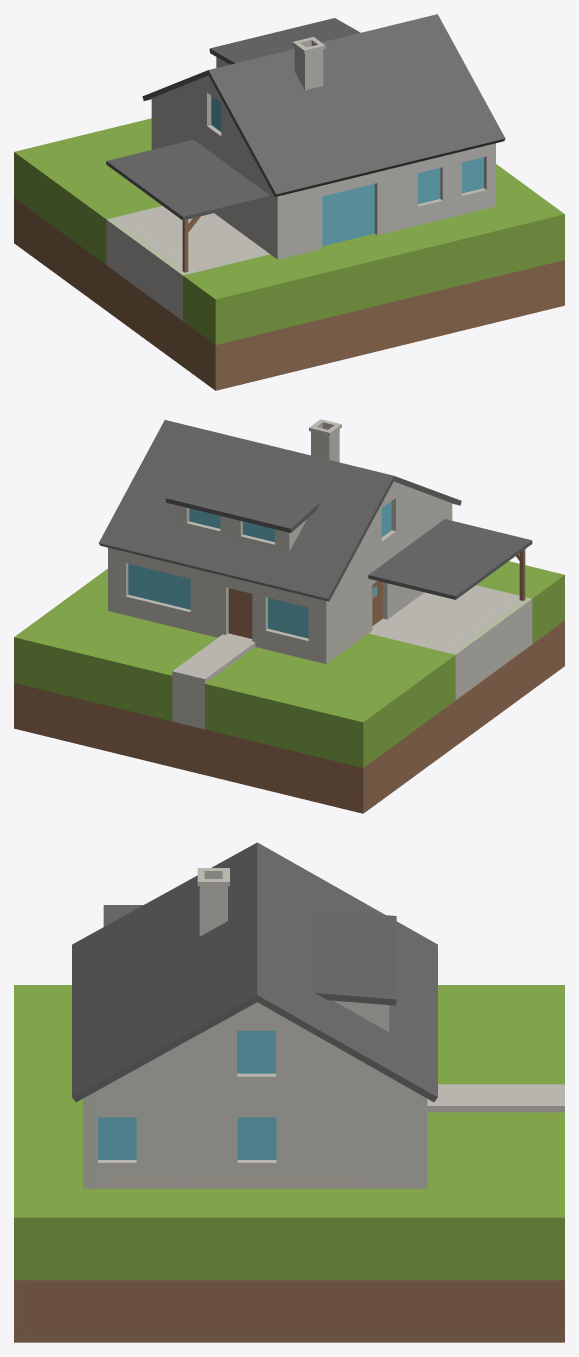
The model's file is building-house6.obj.
3 renders of one model, top to bottom at view 1: azimuth 30°, elevation 25°; view 2: azimuth 150°, elevation 25°; view 3: azimuth 270°, elevation 25°, orthographic. The views are drawn at different scales.
Visible parts, largest first — view 1: house-small-carport-left_Cube.001; view 2: house-small-carport-left_Cube.001; view 3: house-small-carport-left_Cube.001.
Part boxes in pixels (<box>): house-small-carport-left_Cube.001: <box>14,14,564,390</box>; house-small-carport-left_Cube.001: <box>14,419,564,813</box>; house-small-carport-left_Cube.001: <box>14,842,564,1342</box>.
Bounding box in the file's own units: 8 × 5.54 × 8.
